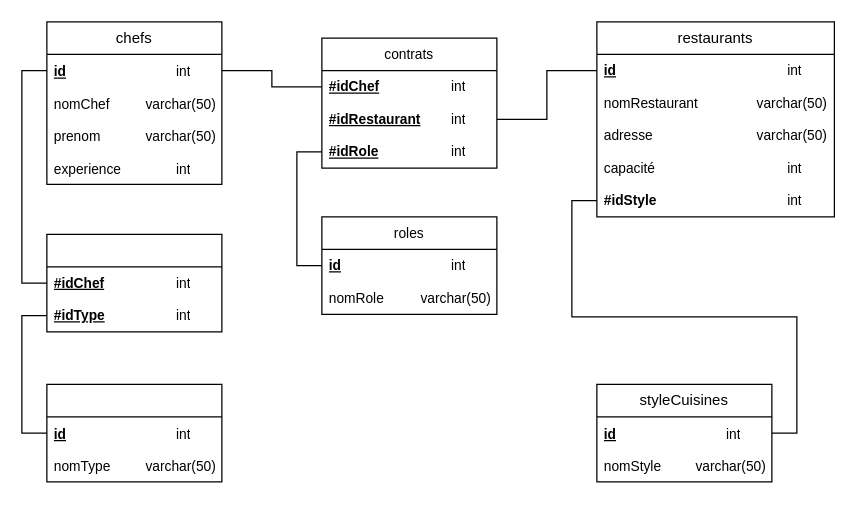
This 856x508 diagram has some shape labels left out. The box of each missing label's shape, as (x1, y1, x2, y2) in pixels:
competences: (46, 233, 222, 332)
typeCuisines: (46, 383, 222, 482)
